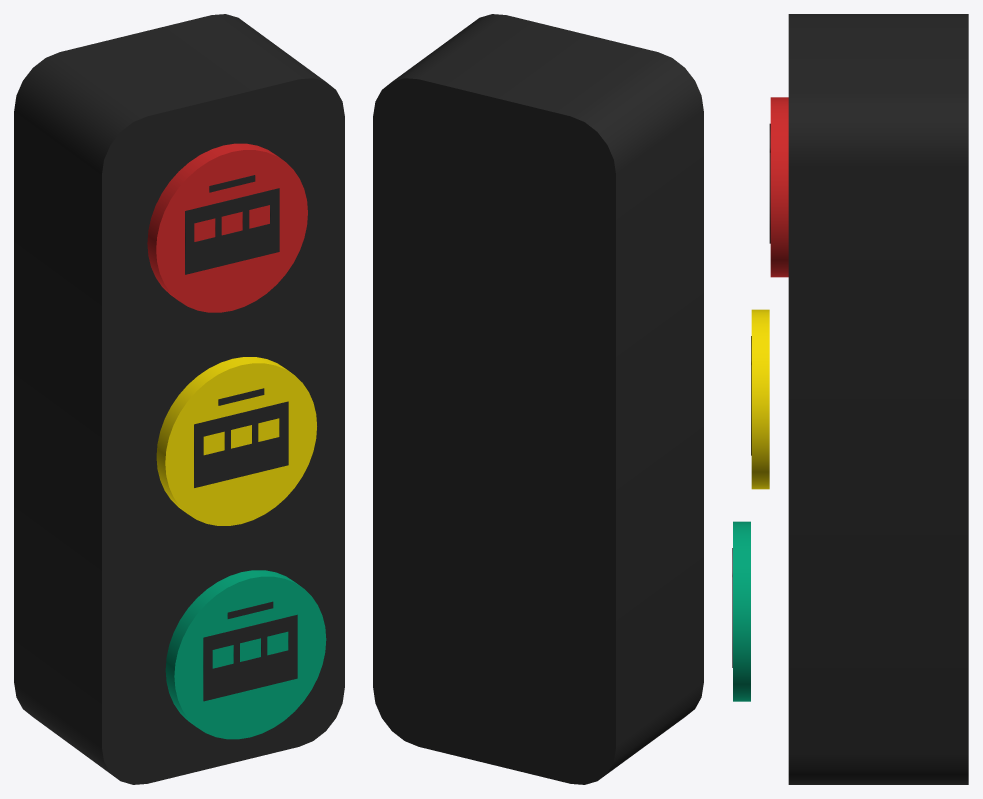
3 views of the same model, side by side, from view 1: azimuth 30°, elevation 25°; view 2: azimuth 150°, elevation 25°; view 3: azimuth 270°, elevation 25° (orthographic). The views are drawn at different scales.
Parts seen in each view (by area): view 1: R15_r00, R15_d302, R15_d250, R15_d276, R15_s275, R15_s301, R15_s327; view 2: R15_r00; view 3: R15_r00, R15_d250, R15_d276, R15_d302.
Boxes of the visible parts, x1,y1,x2,y2 form: R15_r00: (14, 14, 344, 784); R15_d302: (165, 570, 326, 739); R15_d250: (147, 143, 307, 312); R15_d276: (156, 357, 316, 525); R15_s275: (185, 175, 279, 274); R15_s301: (194, 388, 288, 487); R15_s327: (203, 601, 297, 701); R15_r00: (373, 14, 703, 784); R15_r00: (788, 14, 968, 784); R15_d250: (770, 97, 788, 277); R15_d276: (751, 309, 769, 489); R15_d302: (733, 521, 750, 701).
Bounding box in the file's own units: 0.16 × 0.42 × 0.1312.
